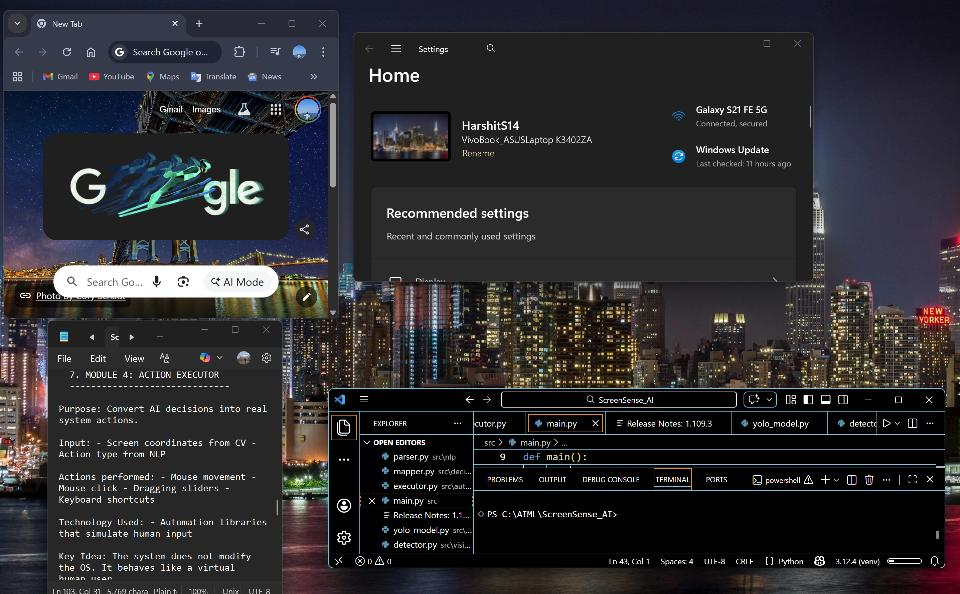close_button: (312, 10, 335, 36), (785, 34, 811, 57), (255, 321, 277, 347), (920, 390, 942, 412)
maximize_button: (280, 10, 306, 37), (224, 322, 246, 345), (889, 390, 912, 412), (755, 33, 779, 54)
minimize_button: (721, 32, 750, 55), (248, 12, 274, 37), (193, 322, 218, 346), (857, 391, 878, 410)
